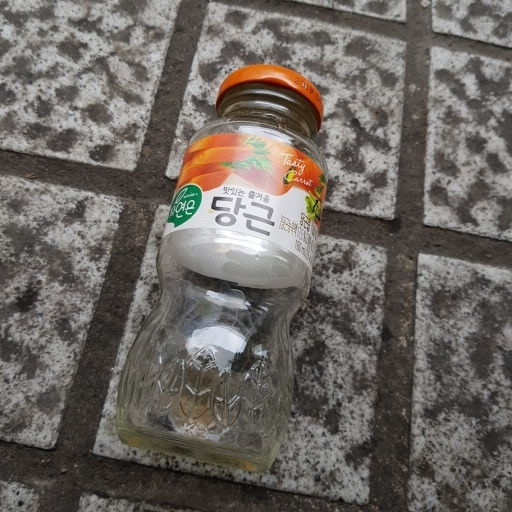Glass_4: (114, 62, 331, 473)
